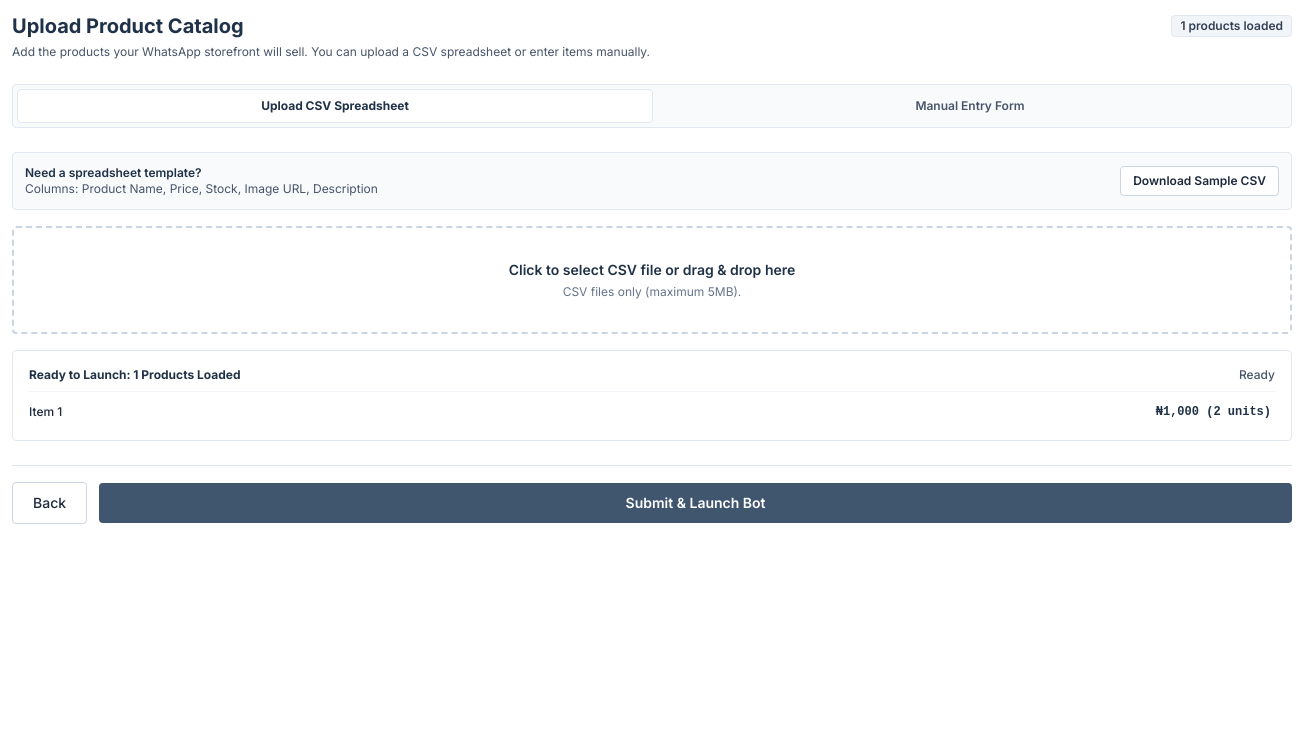
Test case: Signup Flow Components › Step 3: Product Upload & CSV Validation › shows error if submitting with fewer than 3 products
Step 1. Click the button "Submit & Launch Bot" → (696, 503), box top-left (99, 483), bottom-right (1292, 523)
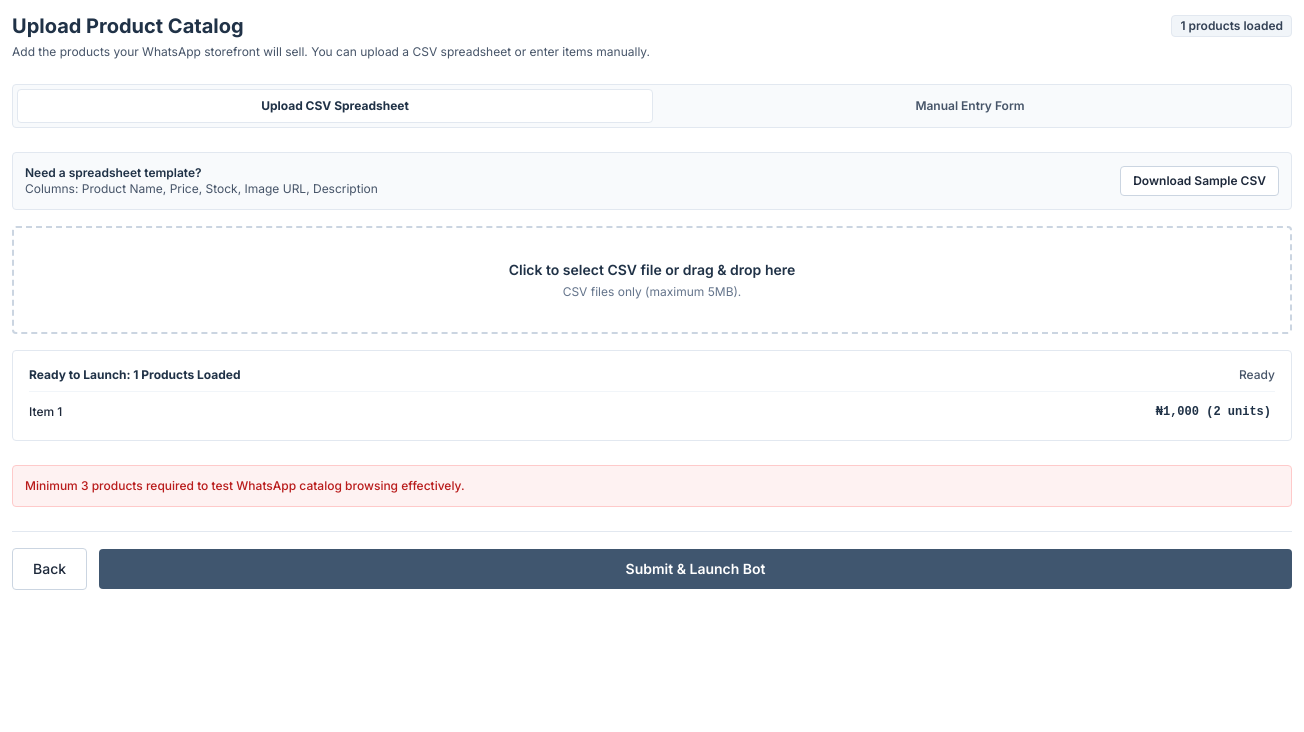
expect the text "Minimum 3 products required to test WhatsApp catalog browsing effectively." is shown: met, box top-left (12, 465), bottom-right (1292, 507)
